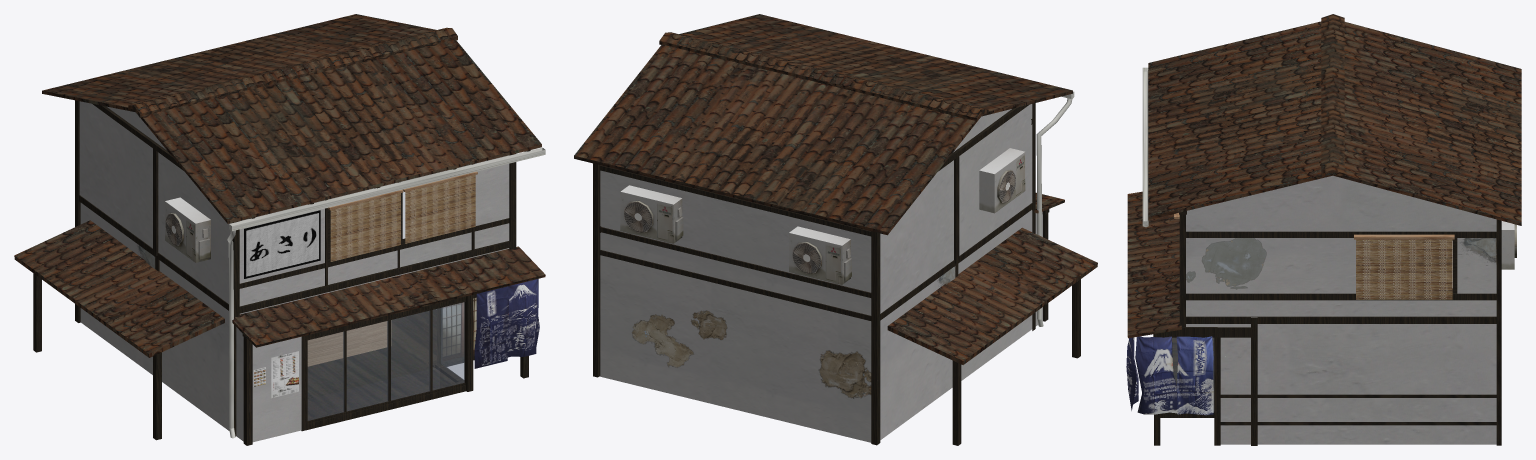
3 renders of one model, left to right at view 1: azimuth 30°, elevation 25°; view 2: azimuth 150°, elevation 25°; view 3: azimuth 270°, elevation 25°, orthographic.
Parts seen in each view (by area): view 1: Box017, Crate_Material #184_0, blinds_Material #0_0, folds_Material #0_0, folds003_Material #0_0, airco001_Material #63_0; view 2: Box017, airco003_Material #63_0, airco002_Material #63_0, Object004_Material #189_0, airco001_Material #63_0, Object011_Material #189_0; view 3: Box017, folds004_Material #0_0, folds2_Material #0_0, Object010_Material #189_0, airco003_Material #63_0, blinds_Material #0_0, Object002_Material #189_0.
Boxes of the visible parts, x1,y1,x2,y2 form: Box017: (14, 14, 545, 445); Crate_Material #184_0: (244, 210, 320, 398); blinds_Material #0_0: (474, 279, 538, 368); folds_Material #0_0: (327, 189, 403, 261); folds003_Material #0_0: (403, 171, 477, 243); airco001_Material #63_0: (165, 197, 210, 262); Box017: (574, 14, 1097, 445); airco003_Material #63_0: (620, 185, 683, 243); airco002_Material #63_0: (789, 226, 851, 284); Object004_Material #189_0: (632, 310, 727, 367); airco001_Material #63_0: (979, 148, 1025, 213); Object011_Material #189_0: (818, 350, 878, 398); Box017: (1127, 14, 1521, 445); folds004_Material #0_0: (1354, 234, 1454, 299); folds2_Material #0_0: (1135, 336, 1213, 415); Object010_Material #189_0: (1186, 238, 1266, 289); airco003_Material #63_0: (1501, 221, 1516, 269); blinds_Material #0_0: (1126, 337, 1138, 410); Object002_Material #189_0: (1459, 238, 1496, 265).
Bounding box in the file's own units: 849 × 622 × 785.
13 materials, 12 textured.
